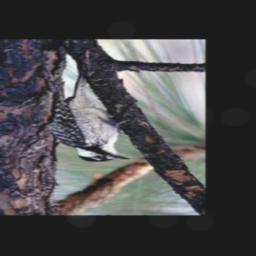Woodpecker: (50, 74, 132, 162)
